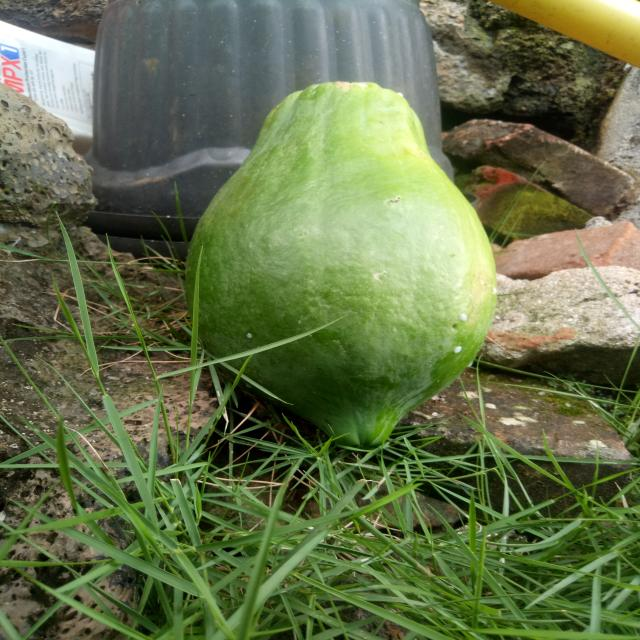Pepaya unrippen: (183, 71, 499, 452)
